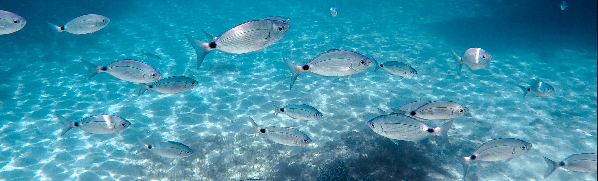fishSmall: (183, 20, 289, 70), (284, 49, 373, 89), (458, 137, 531, 178), (365, 112, 453, 146), (77, 56, 162, 85), (247, 116, 311, 147), (55, 111, 131, 137), (45, 12, 111, 41), (392, 101, 470, 121), (541, 151, 596, 179), (135, 137, 195, 159), (139, 75, 200, 96), (450, 47, 492, 76), (273, 101, 323, 121), (374, 58, 418, 80), (517, 78, 555, 100), (0, 9, 26, 36)
